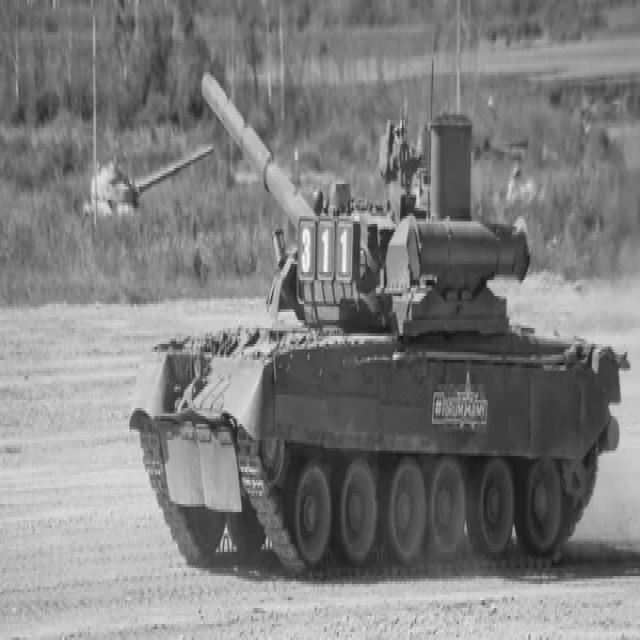Tank: (132, 65, 628, 572)
